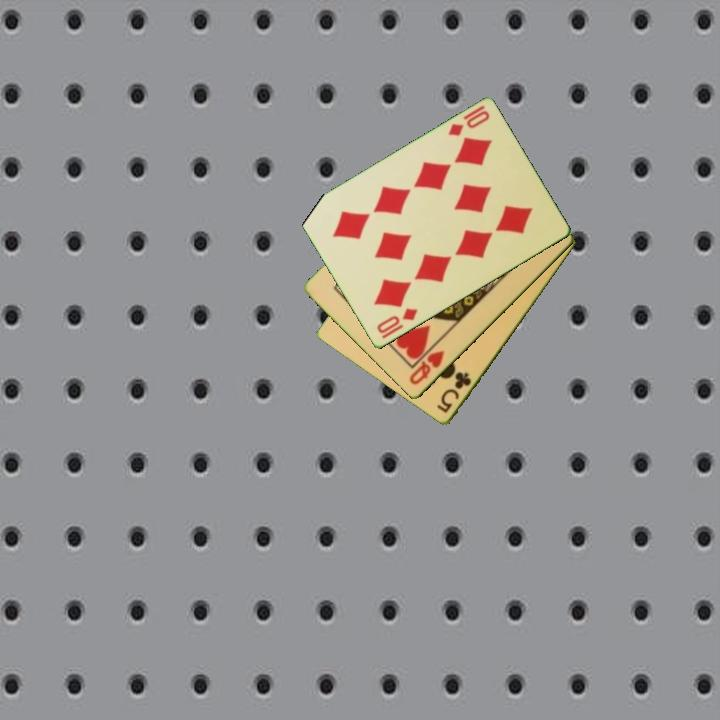10d: (444, 107, 493, 139), (373, 305, 421, 337)
5c: (433, 369, 474, 416)
Qh: (406, 347, 448, 388)
